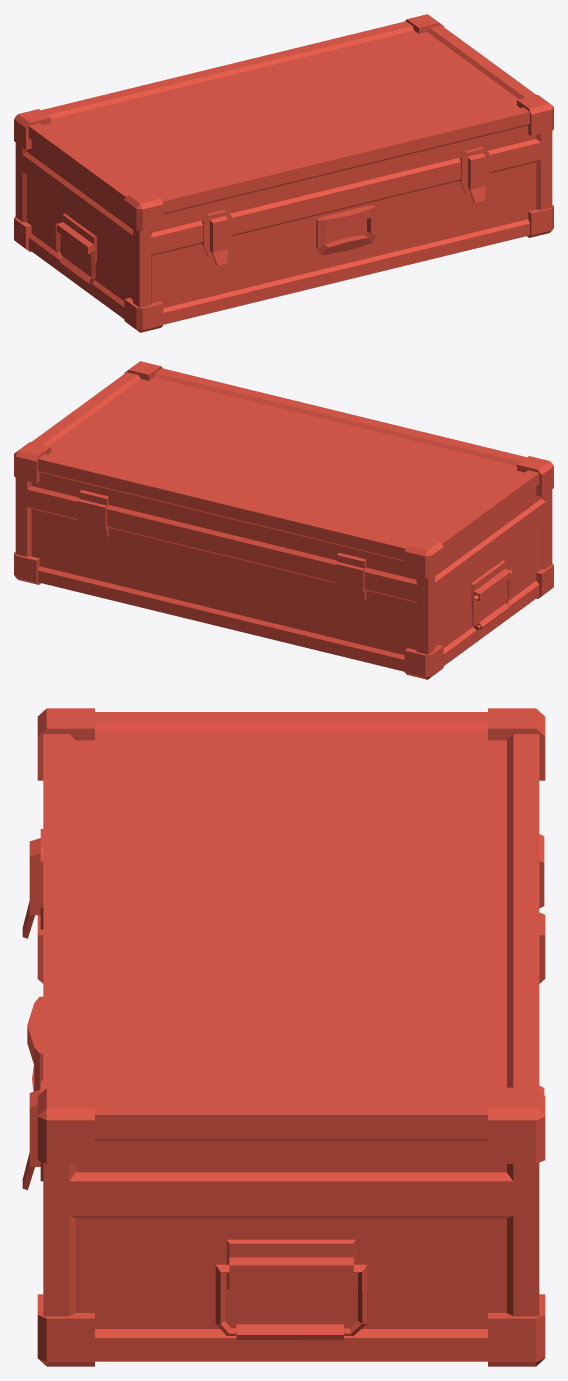
File: SM_Box_Equipment_Padded_Medium.fbx
3 views of the same model, one above another, from view 1: azimuth 30°, elevation 25°; view 2: azimuth 150°, elevation 25°; view 3: azimuth 270°, elevation 25° (orthographic). The views are drawn at different scales.
Parts seen in each view (by area): view 1: SM_Box_Equipment_Padded_Medium; view 2: SM_Box_Equipment_Padded_Medium; view 3: SM_Box_Equipment_Padded_Medium.
Part boxes in pixels (x1,y1,x2,y2): SM_Box_Equipment_Padded_Medium: (14,14,553,332); SM_Box_Equipment_Padded_Medium: (14,361,553,679); SM_Box_Equipment_Padded_Medium: (22,708,545,1366).
Bounding box in the file's own units: 40.03 × 74.93 × 21.85.
